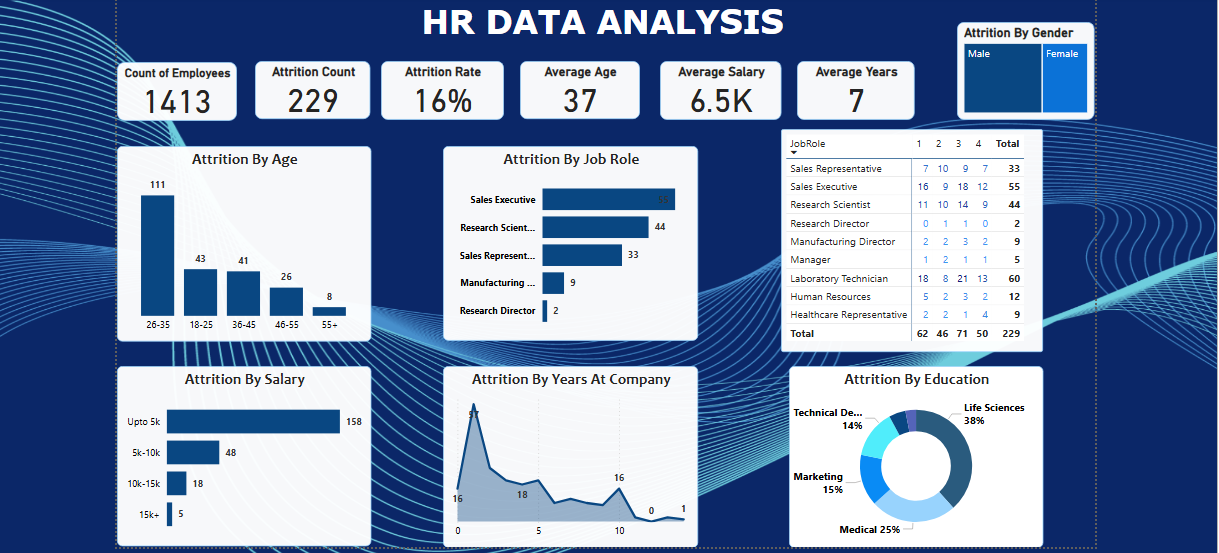

What the dashboard file says about the page in this screenshot:
{"tool":"powerbi","page":{"name":"Page 1","canvas":[1280,720],"ordinal":0},"visuals":[{"type":"card","title":"Count of Employees","fields":{"Values":["Count(HR_Analytics.EmpID)"]},"box":[0,85.1,156.8,77],"z":0},{"type":"card","title":"Attrition Count","fields":{"Values":["Sum(HR_Analytics.Attrition Count)"]},"box":[181.1,83.8,151.4,75.7],"z":1000},{"type":"card","title":"Attrition Rate","fields":{"Values":["HR_Analytics.Attrition Rate"]},"box":[345.9,83.8,160.8,77],"z":2000},{"type":"card","title":"Average Age","fields":{"Values":["Avg(HR_Analytics.Age)"]},"box":[527,83.8,156.8,75.7],"z":3000},{"type":"card","title":"Average Salary","fields":{"Values":["Avg(HR_Analytics.MonthlyIncome)"]},"box":[710.8,83.8,159.5,77],"z":4000},{"type":"card","title":"Average Years","fields":{"Values":["Avg(HR_Analytics.YearsAtCompany)"]},"box":[890.5,83.8,154.1,77],"z":5000},{"type":"donutChart","title":"Attrition By Education","fields":{"Category":["HR_Analytics.EducationField"],"Y":["Sum(HR_Analytics.Attrition Count)"]},"box":[879.8,482.4,332.6,237.6],"z":6000},{"type":"columnChart","title":"Attrition By Age","fields":{"Y":["Sum(HR_Analytics.Attrition Count)"],"Category":["HR_Analytics.AgeGroup"]},"box":[0,194.4,332.6,256.3],"z":7000},{"type":"pivotTable","fields":{"Rows":["HR_Analytics.JobRole"],"Columns":["HR_Analytics.JobSatisfaction"],"Values":["Sum(HR_Analytics.Attrition Count)"]},"box":[869.8,172.8,342.7,292.3],"z":8000},{"type":"clusteredBarChart","title":"Attrition By Salary","fields":{"Category":["HR_Analytics.SalarySlab"],"Y":["Sum(HR_Analytics.Attrition Count)"]},"box":[0,482.4,332.6,236.2],"z":9000},{"type":"clusteredBarChart","title":"Attrition By Job Role","fields":{"Y":["Sum(HR_Analytics.Attrition Count)"],"Category":["HR_Analytics.JobRole"]},"box":[426.2,194.4,334.1,254.9],"z":10000},{"type":"areaChart","title":"Attrition By Years At Company","fields":{"Y":["Sum(HR_Analytics.Attrition Count)"],"Category":["HR_Analytics.YearsAtCompany"]},"box":[426.2,482.4,334.1,237.6],"z":11000},{"type":"treemap","title":" Attrition By Gender","fields":{"Group":["HR_Analytics.Gender"],"Values":["Sum(HR_Analytics.Attrition Count)"]},"box":[1100.2,33.1,180,128.2],"z":12000},{"type":"textbox","box":[118.1,0,966.2,67.7],"z":13000}]}

Visuals, with their boxes in screenshot pixels (x1, y1, x2, y2):
"Count of Employees" card: select_region(121, 61, 239, 119)
"Attrition Count" card: select_region(258, 60, 372, 118)
"Attrition Rate" card: select_region(382, 60, 504, 118)
"Average Age" card: select_region(519, 60, 638, 118)
"Average Salary" card: select_region(658, 60, 779, 118)
"Average Years" card: select_region(794, 60, 911, 118)
"Attrition By Education" donutChart: select_region(786, 362, 1038, 542)
"Attrition By Age" columnChart: select_region(121, 144, 372, 338)
pivotTable - HR_Analytics.JobRole x HR_Analytics.JobSatisfaction: select_region(779, 128, 1038, 349)
"Attrition By Salary" clusteredBarChart: select_region(121, 362, 372, 540)
"Attrition By Job Role" clusteredBarChart: select_region(443, 144, 696, 337)
"Attrition By Years At Company" areaChart: select_region(443, 362, 696, 542)
" Attrition By Gender" treemap: select_region(953, 22, 1089, 119)
textbox: select_region(210, 0, 941, 48)
